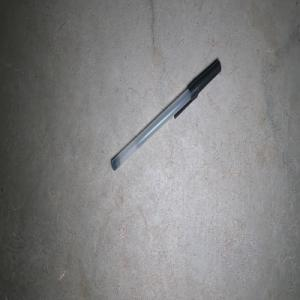Pen: (111, 59, 221, 170)
